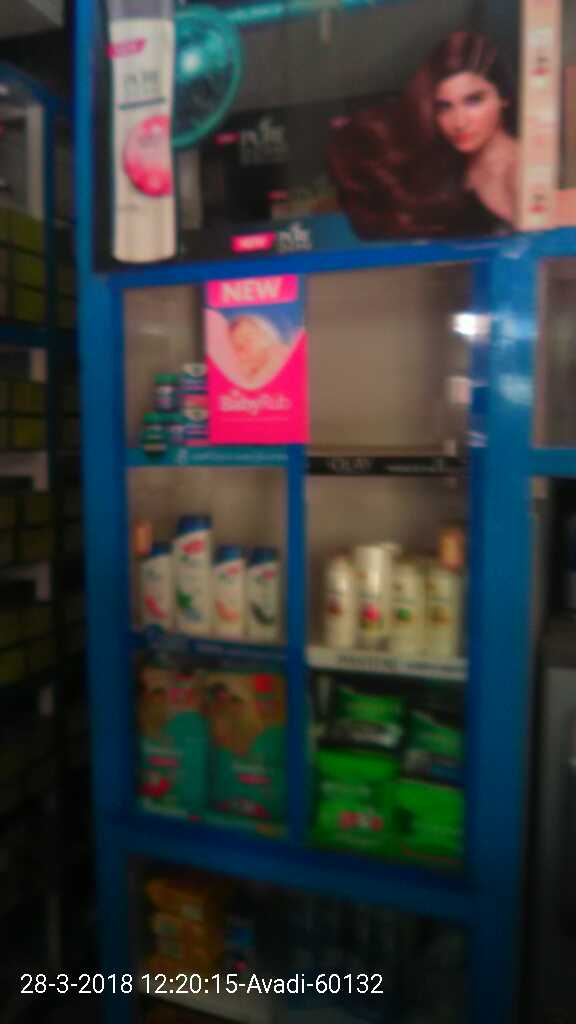vicks: (139, 356, 211, 449)
